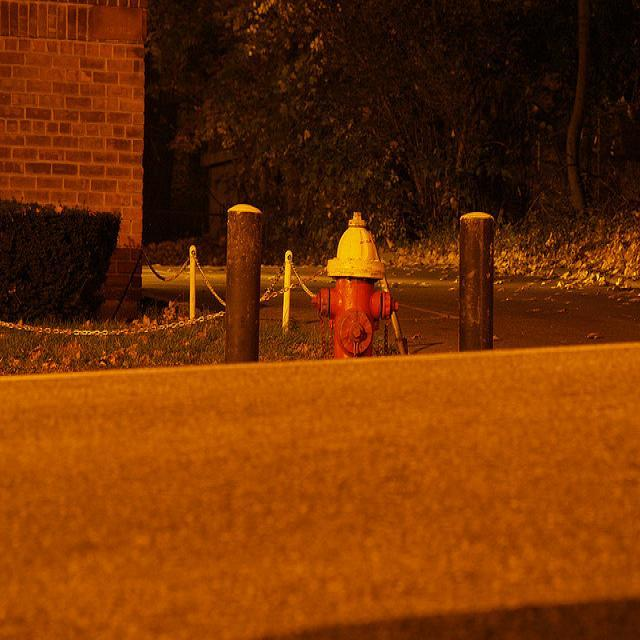fire_hydrant: (313, 212, 400, 360)
